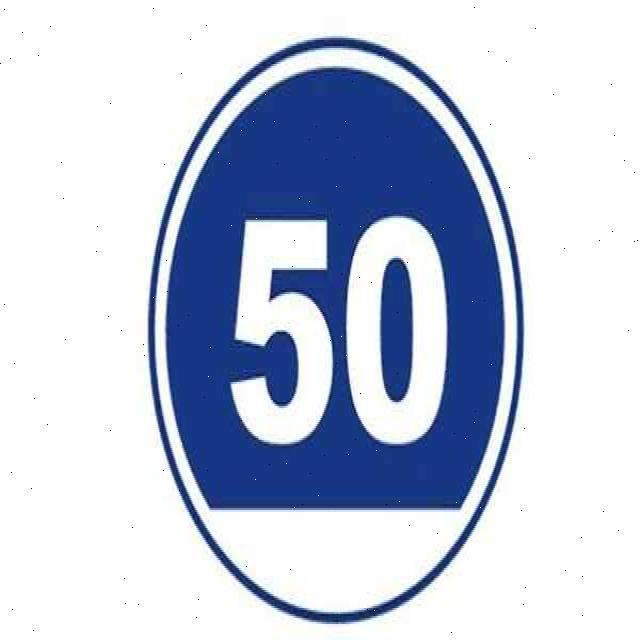speed limit 50: (146, 38, 525, 629)
